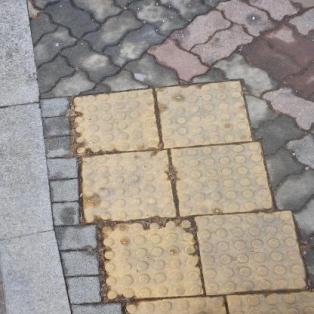Podoctatil: (58, 72, 314, 314)
